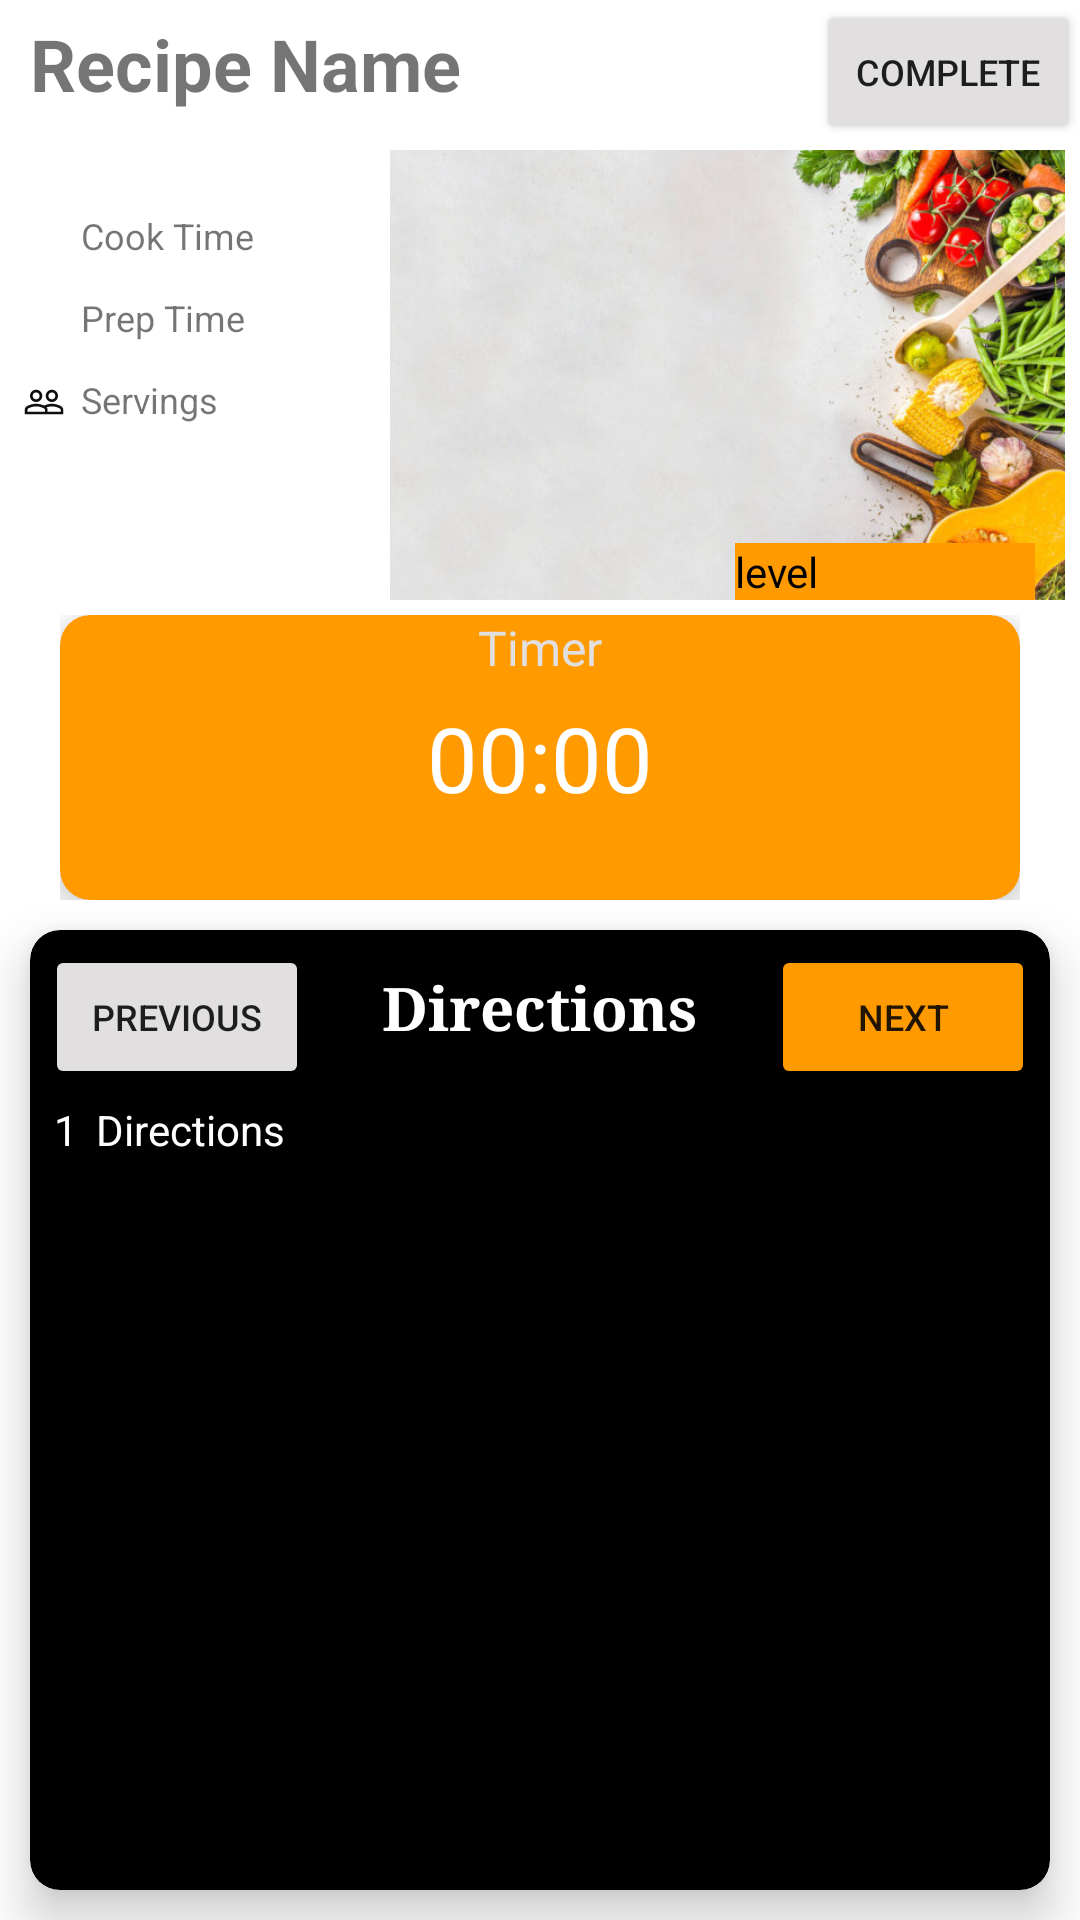

Screen size 1080px×1920px. Icon name, then its center in pixels as point (x, y):
people: point (44, 402)
